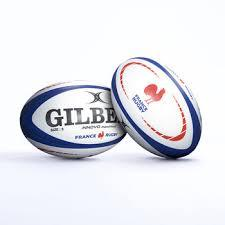ballon_rugby: (109, 55, 202, 160), (18, 80, 133, 160)
